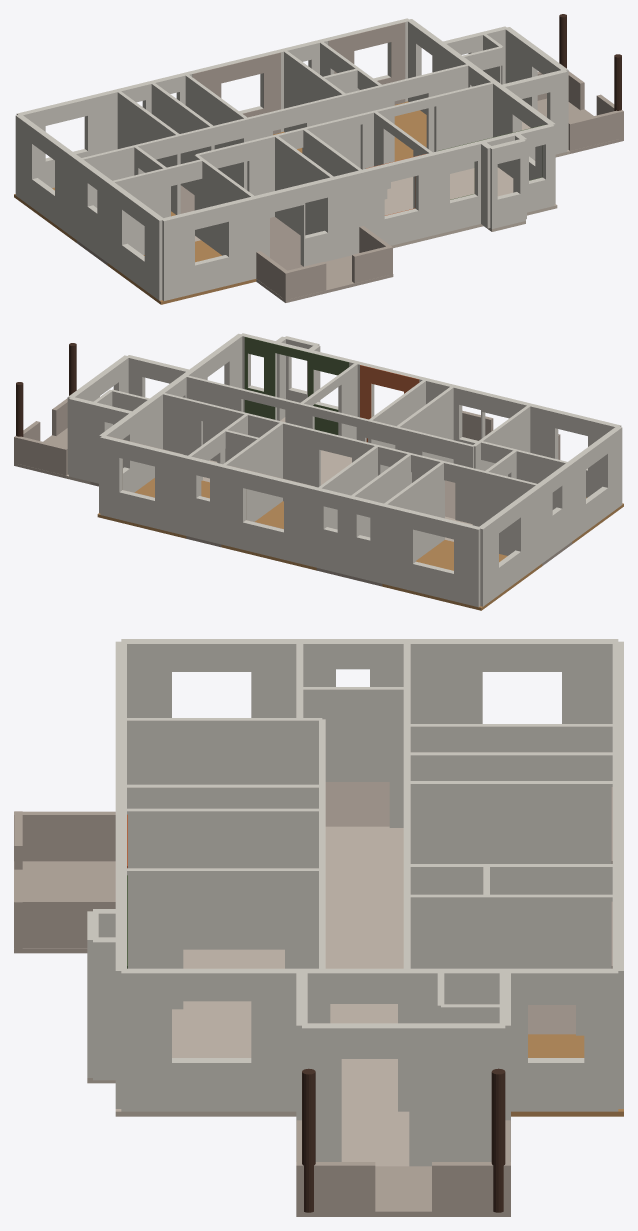
3 views of the same model, one above another, from view 1: azimuth 30°, elevation 25°; view 2: azimuth 150°, elevation 25°; view 3: azimuth 270°, elevation 25° (orthographic). The views are drawn at different scales.
Parts seen in each view (by area): view 1: casa_estructura; view 2: casa_estructura; view 3: casa_estructura.
Part boxes in pixels (bbox=[...]): casa_estructura: bbox=[14, 14, 623, 304]; casa_estructura: bbox=[14, 333, 623, 610]; casa_estructura: bbox=[14, 639, 623, 1216].
Size of the model in its own units: 18.24 by 10.8 by 2.8.
